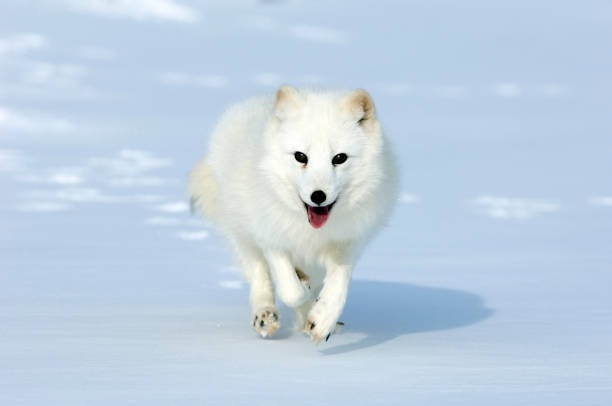arcticfox: (276, 117, 365, 241)
